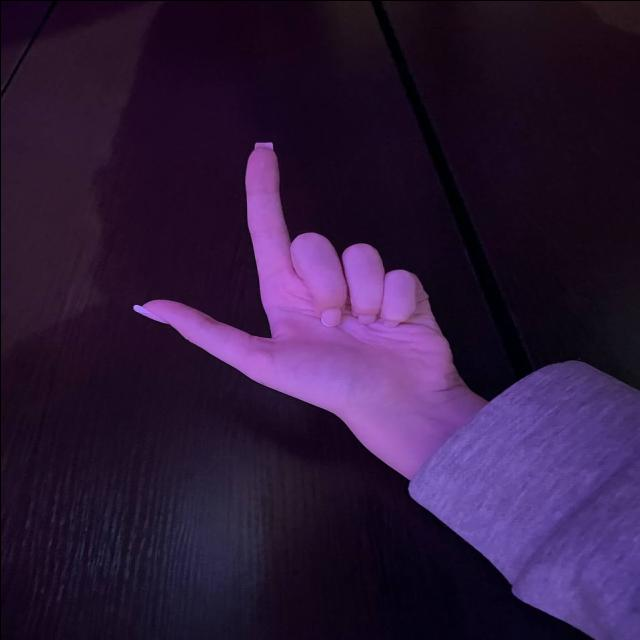g: (116, 121, 447, 392)
